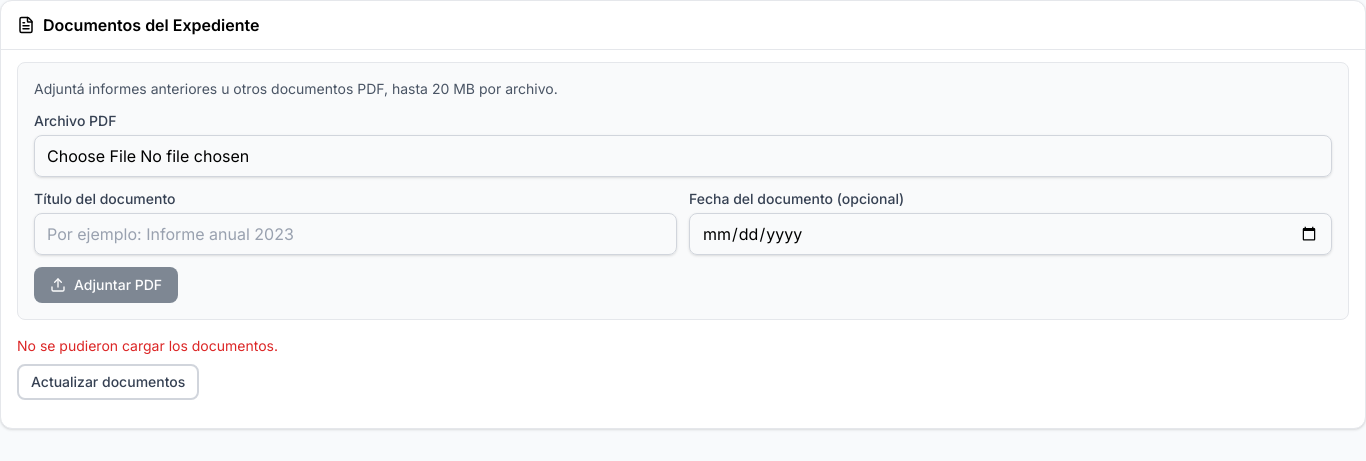
Test case: CaseDocumentsSection › offers a retry when documents could not be read, without reporting an empty case
The width and height of the screenshot is (1366, 461).
expect the message shows "No se pudieron cargar los documentos.": met, box 17,337 -> 278,354
Click the button "Actualizar documentos": (108, 382) 17,364 -> 199,400
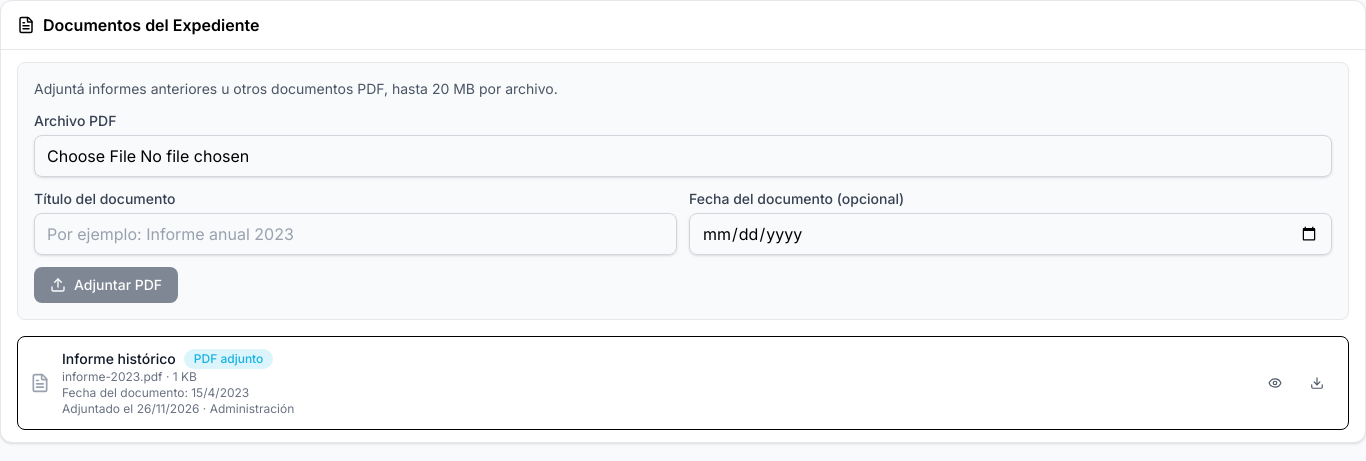
expect the text "Informe histórico" is shown: met, box 62,349 -> 176,369
